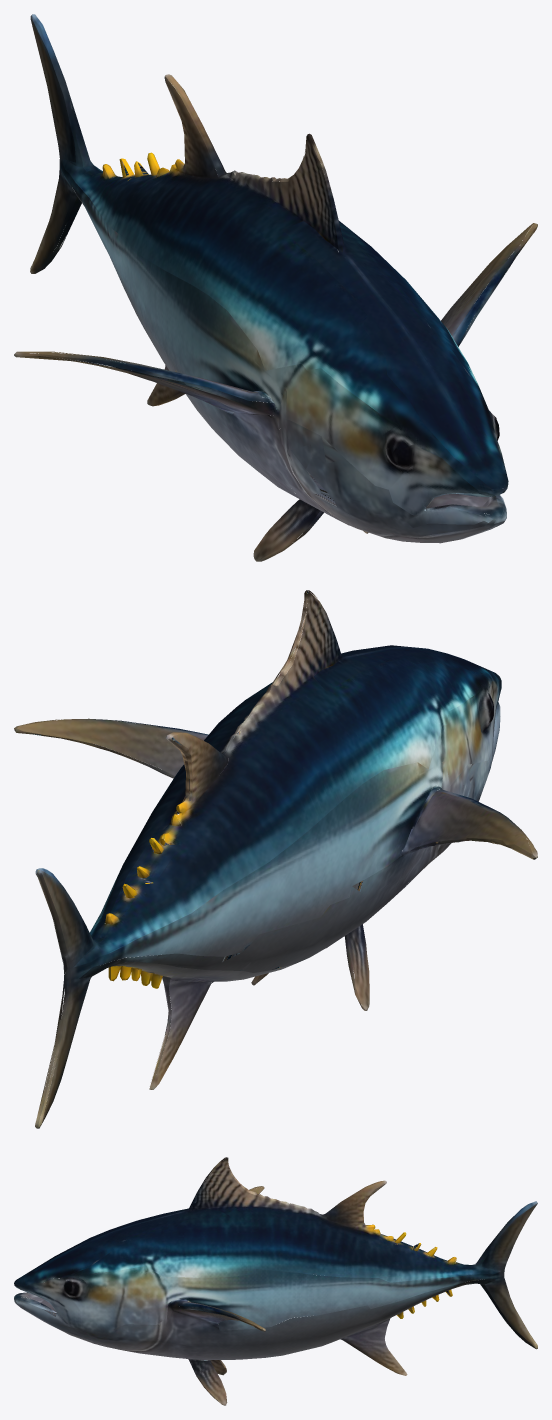
File: atum.glb
3 views of the same model, one above another, from view 1: azimuth 30°, elevation 25°; view 2: azimuth 150°, elevation 25°; view 3: azimuth 270°, elevation 25° (orthographic). The views are drawn at different scales.
Visible parts, largest first — view 1: geometry_0; view 2: geometry_0; view 3: geometry_0.
Boxes of the visible parts, left/top/right/bottom form: geometry_0: left=14, top=14, right=537, bottom=561; geometry_0: left=14, top=590, right=537, bottom=1128; geometry_0: left=14, top=1157, right=537, bottom=1405.
Bounding box in the file's own units: 1.05 × 0.7849 × 1.6.
Materials: 1 (1 with a texture image).
